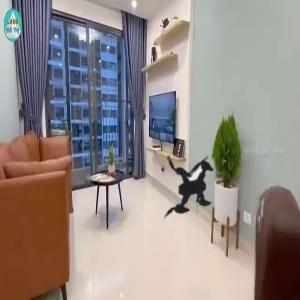drone: (131, 125, 263, 257)
